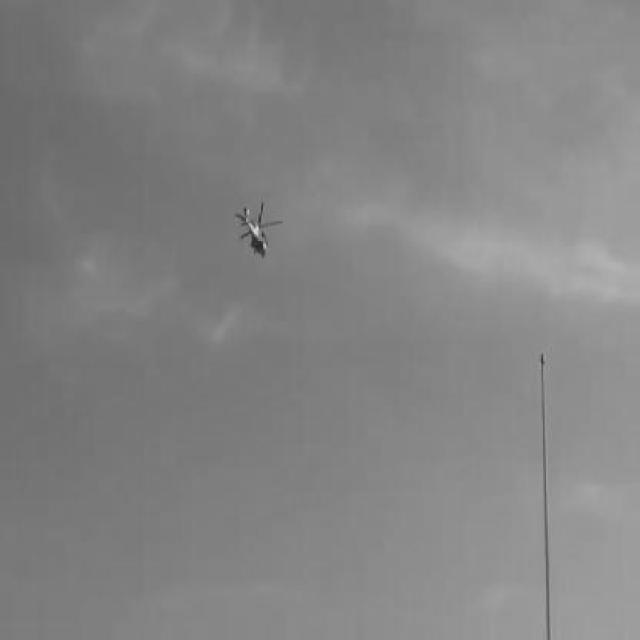helikopter: (234, 205, 282, 258)
